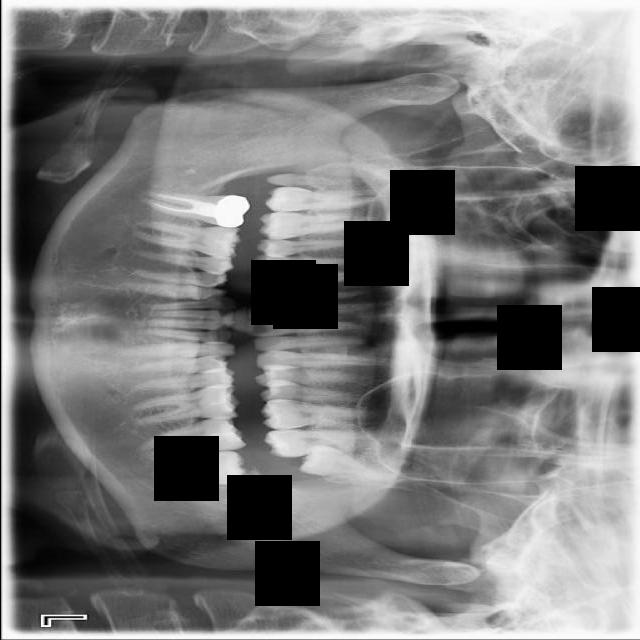52: (212, 193, 250, 230)
73: (140, 190, 227, 226), (11, 624, 15, 630)
BioHorizons Implant: (264, 428, 402, 460)
BioLife Implant: (297, 444, 426, 487)
Biomet 3i Implant: (150, 451, 246, 489)
Blue Sky Bio Implant: (135, 412, 248, 471)
Caries: (264, 185, 393, 212)
Implant: (140, 190, 250, 229)
